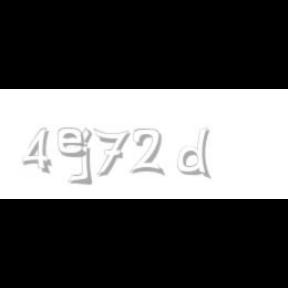2: (129, 128, 163, 176)
4: (21, 128, 52, 174)
7: (94, 128, 130, 178)
d: (178, 128, 215, 180)
e: (57, 128, 90, 158)
j: (78, 128, 106, 186)
